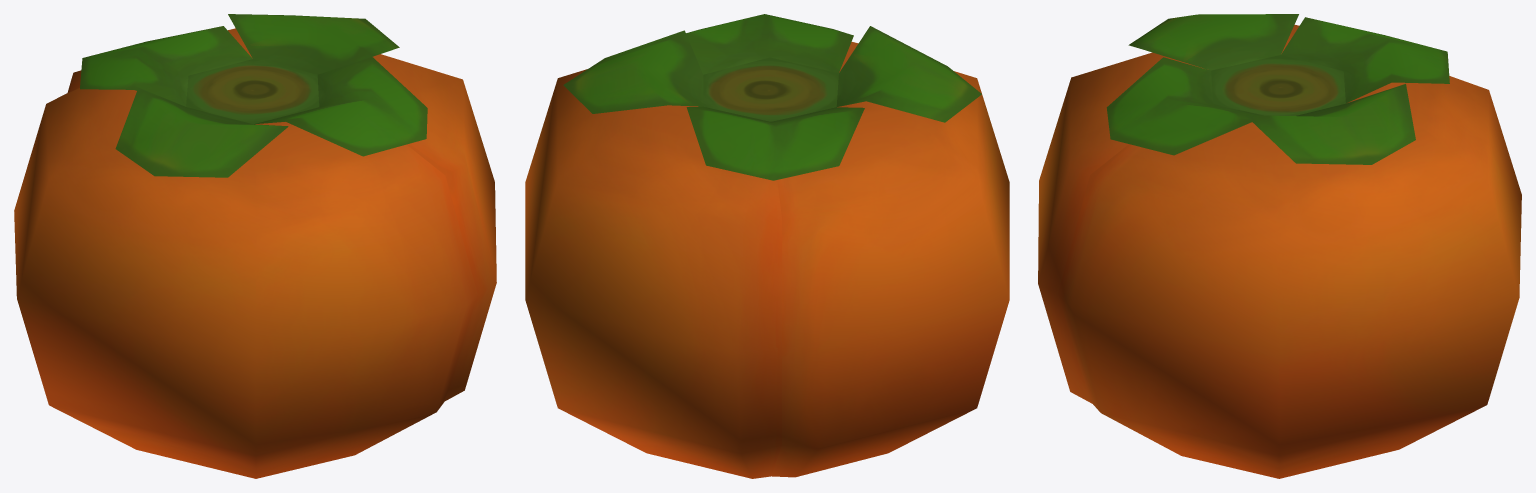
File: persimmon.fbx
3 renders of one model, left to right at view 1: azimuth 30°, elevation 25°; view 2: azimuth 150°, elevation 25°; view 3: azimuth 270°, elevation 25°, orthographic.
Visible parts, largest first — view 1: persimmon; view 2: persimmon; view 3: persimmon.
Boxes of the visible parts, <box> form: persimmon: <box>14,14,496,478</box>; persimmon: <box>525,14,1009,478</box>; persimmon: <box>1038,14,1521,478</box>.
Bounding box in the file's own units: 2.06 × 1.53 × 1.8.
